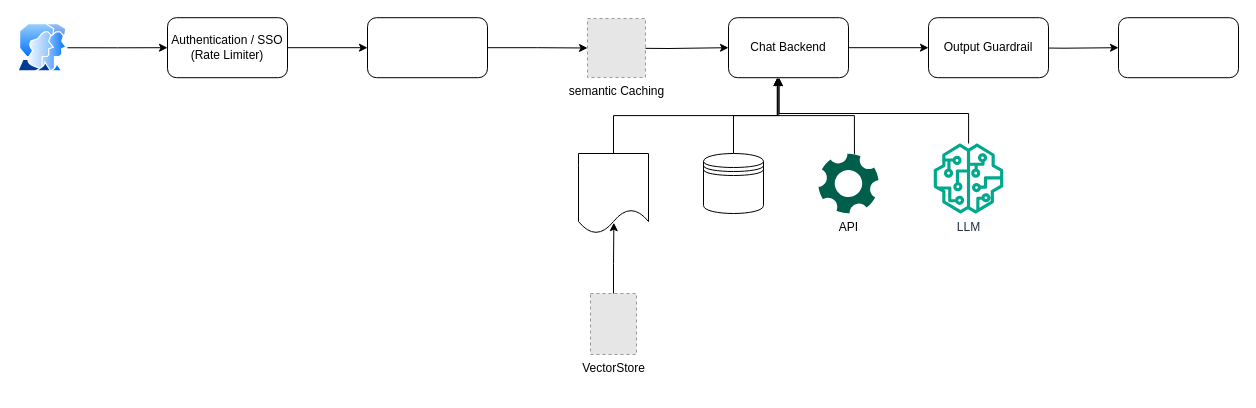
This 1256x408 diagram has some shape labels left out. Grey dashed boxes stand in for pictures. Here are the shapes that lost their labels. From the top down, the centre of each, then its label:
At pixel 427 47: "Input Guardrail".
At pixel 1178 47: "Answer / Response".
At pixel 613 193: "RAG".
At pixel 733 183: "Commerce DB".
